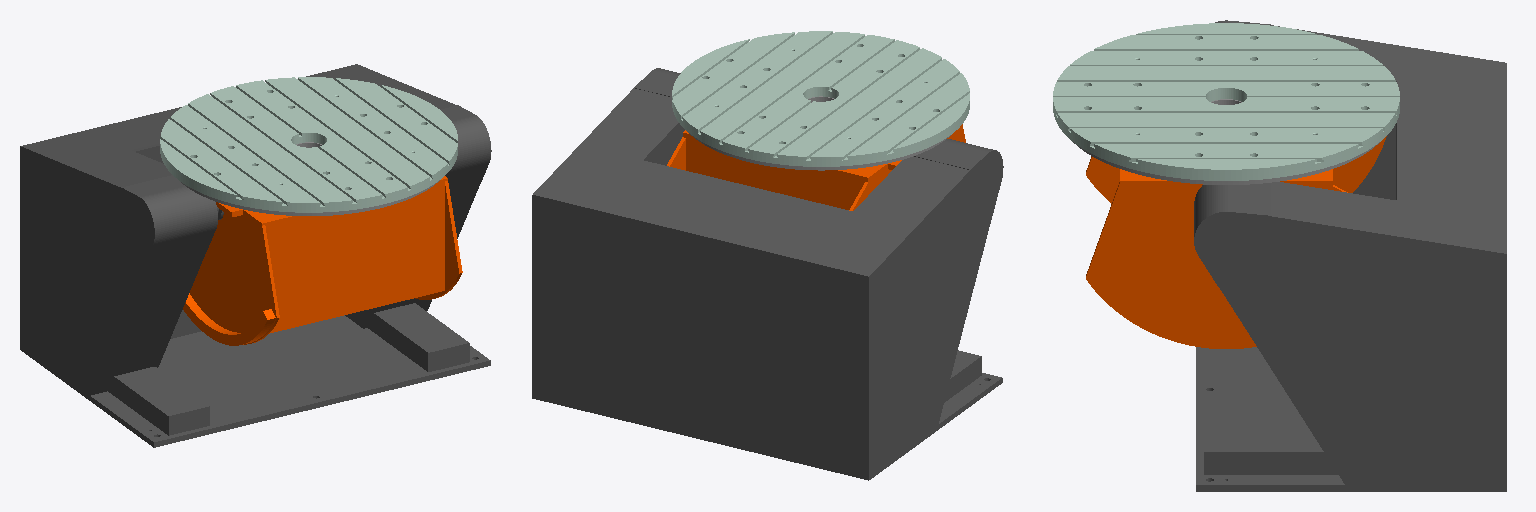
robot.urdf — gantry:
<?xml version="1.0" ?>
<!-- =================================================================================== -->
<!-- |    This document was autogenerated by xacro from src/mimic_support/urdf/positioner.xacro | -->
<!-- |    EDITING THIS FILE BY HAND IS NOT RECOMMENDED                                 | -->
<!-- =================================================================================== -->
<!--Generates a urdf from the macro in positioner_macro.xacro -->
<robot name="gantry">
  <!-- LINKS -->
  <link name="positioner_frame">
    <visual>
      <origin rpy="0 0 0" xyz="0 0 0"/>
      <geometry>
        <mesh filename="package://mimic_support/meshes/visual/positioner_fixed_nx.dae"/>
      </geometry>
    </visual>
    <collision>
      <origin rpy="0 0 0" xyz="0 0 0"/>
      <geometry>
        <mesh filename="package://mimic_support/meshes/collision/positioner_fixed_nx.stl"/>
      </geometry>
    </collision>
  </link>
  <link name="e1">
    <inertial>
      <origin rpy="0 0 0" xyz="0 0 0"/>
      <mass value="2"/>
      <inertia ixx="0.01" ixy="0" ixz="0" iyy="0.01" iyz="0" izz="0.01"/>
    </inertial>
    <visual>
      <origin rpy="0 0 0" xyz="0 0 0"/>
      <geometry>
        <mesh filename="package://mimic_support/meshes/visual/e1_nx.dae"/>
      </geometry>
    </visual>
    <collision>
      <origin rpy="0 0 0" xyz="0 0 0"/>
      <geometry>
        <mesh filename="package://mimic_support/meshes/collision/e1_nx.stl"/>
      </geometry>
    </collision>
  </link>
  <link name="e2">
    <inertial>
      <origin rpy="0 0 0" xyz="0 0 0"/>
      <mass value="2"/>
      <inertia ixx="0.01" ixy="0" ixz="0" iyy="0.01" iyz="0" izz="0.01"/>
    </inertial>
    <visual>
      <origin rpy="0 0 0" xyz="0 0 0"/>
      <geometry>
        <mesh filename="package://mimic_support/meshes/visual/e2_nx.dae"/>
      </geometry>
    </visual>
    <collision>
      <origin rpy="0 0 0" xyz="0 0 0"/>
      <geometry>
        <mesh filename="package://mimic_support/meshes/collision/e2_nx.stl"/>
      </geometry>
    </collision>
  </link>
  <!-- JOINTS -->
  <!-- joint e1 (E1) -->
  <joint name="joint_e1" type="revolute">
    <origin rpy="0 0 0" xyz="0.0 0.0 0.0"/>
    <parent link="positioner_frame"/>
    <child link="e1"/>
    <axis xyz="1 0 0"/>
    <limit effort="21.9" lower="-0.04363323129985824" upper="2.050761871093337" velocity="0.714"/>
  </joint>
  <joint name="joint_e2" type="revolute">
    <origin rpy="0 0 0" xyz="0 0 0"/>
    <parent link="e1"/>
    <child link="e2"/>
    <axis xyz="0 0 1"/>
    <limit effort="21.9" lower="-31.41592653589793" upper="31.41592653589793" velocity="0.2575"/>
  </joint>
</robot>

--- What the picture shows (computed from the rendered views, not written in the file) ---
Views: 3 orthographic renders of the robot side by side, from view 1: azimuth 30°, elevation 25°; view 2: azimuth 150°, elevation 25°; view 3: azimuth 270°, elevation 25°.
Model gantry with 3 links and 2 joints (2 revolute), rooted at positioner_frame, posed every joint at zero.
Links seen in each view (by area): view 1: positioner_frame, e2, e1; view 2: positioner_frame, e2, e1; view 3: positioner_frame, e2, e1.
Boxes of the visible links, x1=… form: positioner_frame: x1=20, y1=64, x2=491, y2=447; e2: x1=160, y1=77, x2=457, y2=215; e1: x1=183, y1=176, x2=462, y2=345; positioner_frame: x1=532, y1=68, x2=1003, y2=480; e2: x1=672, y1=31, x2=969, y2=170; e1: x1=667, y1=124, x2=965, y2=210; positioner_frame: x1=1194, y1=20, x2=1506, y2=491; e2: x1=1053, y1=23, x2=1399, y2=184; e1: x1=1086, y1=136, x2=1386, y2=348.
Size in the robot's own frame: 1.63 by 1.64 by 1.19 metres.
Meshes: 3 distinct files referenced, 3 mesh visuals loaded (3 Collada DAE).